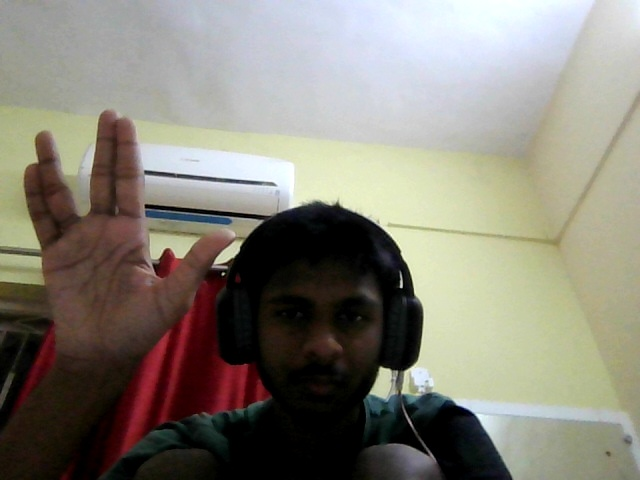LiveLong: (14, 112, 233, 363)
